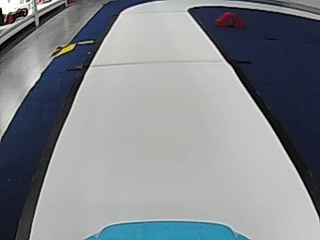bridge: (215, 11, 244, 29)
